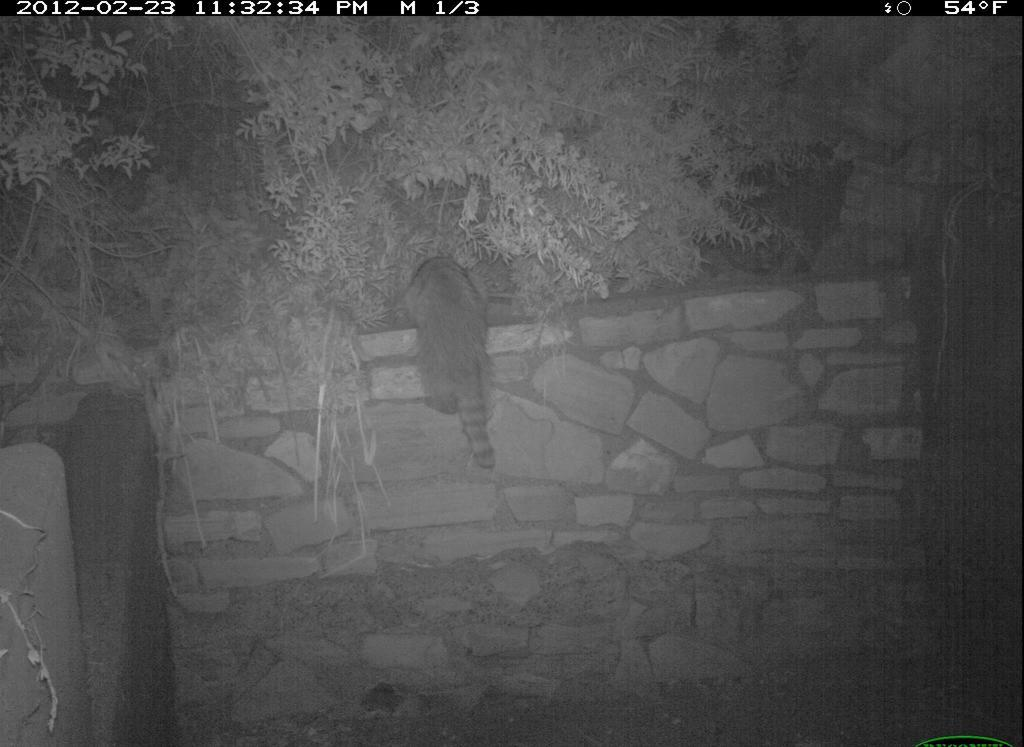raccoon: (397, 251, 516, 478)
